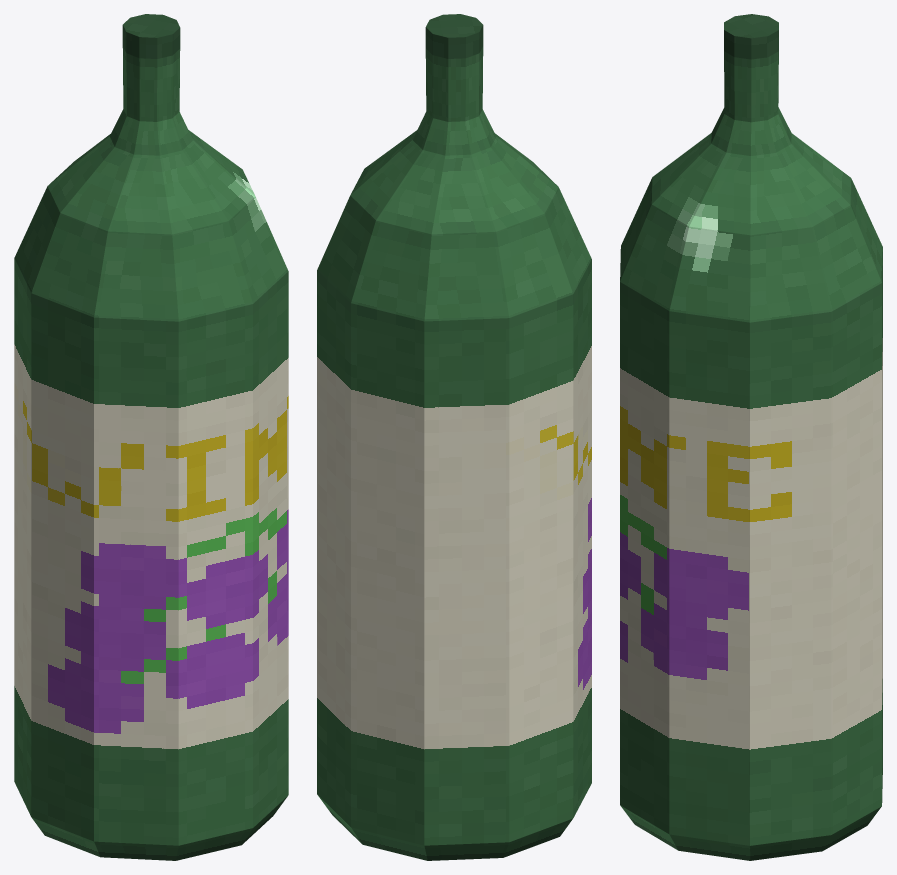
The model's file is Bottle 1.fbx.
3 renders of one model, left to right at view 1: azimuth 30°, elevation 25°; view 2: azimuth 150°, elevation 25°; view 3: azimuth 270°, elevation 25°, orthographic.
Visible parts, largest first — view 1: bottle; view 2: bottle; view 3: bottle.
Part boxes in pixels (x1,y1,x2,y2): bottle: (14,14,288,860); bottle: (317,14,591,860); bottle: (620,14,882,860).
Size of the model in its own units: 9.47 by 29.71 by 9.04.
